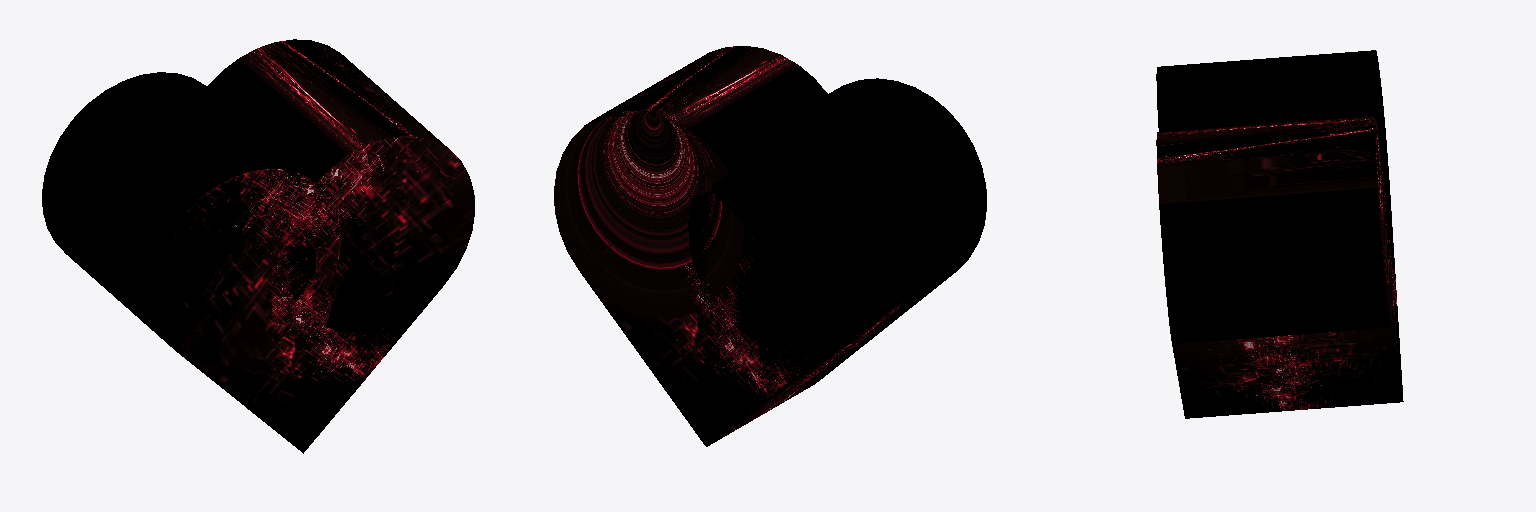
3 renders of one model, left to right at view 1: azimuth 30°, elevation 25°; view 2: azimuth 150°, elevation 25°; view 3: azimuth 270°, elevation 25°, orthographic.
Parts seen in each view (by area): view 1: Cube; view 2: Cube; view 3: Cube.
Part boxes in pixels (left/top/right/bottom): Cube: left=42, top=39, right=474, bottom=453; Cube: left=554, top=46, right=986, bottom=446; Cube: left=1156, top=50, right=1403, bottom=418.
Size of the model in its own units: 3.41 by 3.28 by 2.25.
Materials: 1 (1 with a texture image).